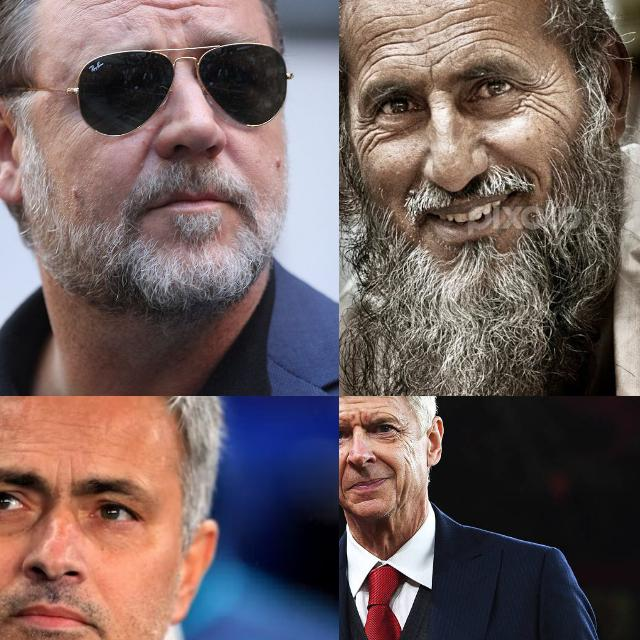chin: (354, 496, 378, 506)
crows_feet: (520, 80, 548, 116), (353, 115, 382, 149), (398, 428, 412, 444)
forehead: (148, 0, 221, 23), (451, 4, 485, 48), (380, 15, 408, 63), (414, 17, 444, 58), (82, 0, 140, 21), (491, 17, 521, 57), (357, 39, 379, 77), (12, 436, 42, 458), (371, 404, 395, 416), (339, 406, 346, 419)
frown_line: (62, 459, 78, 485), (352, 412, 364, 430)
gummy_smile: (140, 123, 162, 175), (376, 450, 396, 472), (339, 458, 351, 485)
masseter: (402, 452, 416, 470)
sad_smile: (524, 162, 550, 198), (390, 476, 400, 492), (339, 485, 348, 501)
